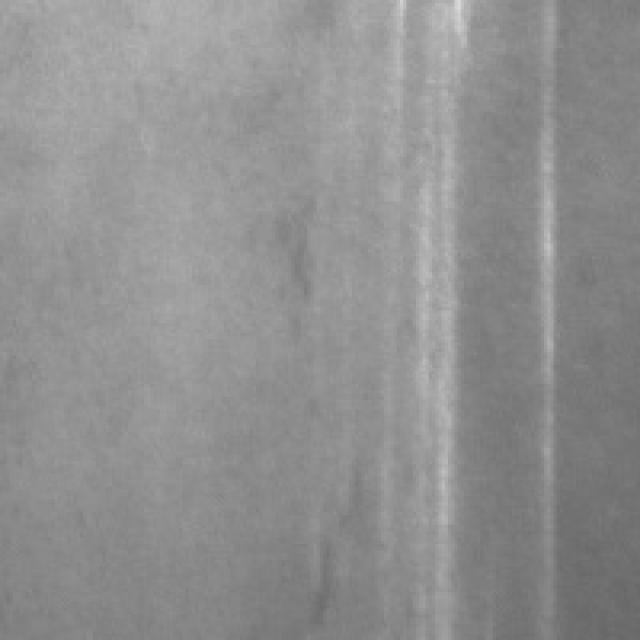scratches: (400, 13, 461, 608), (522, 0, 560, 608)
